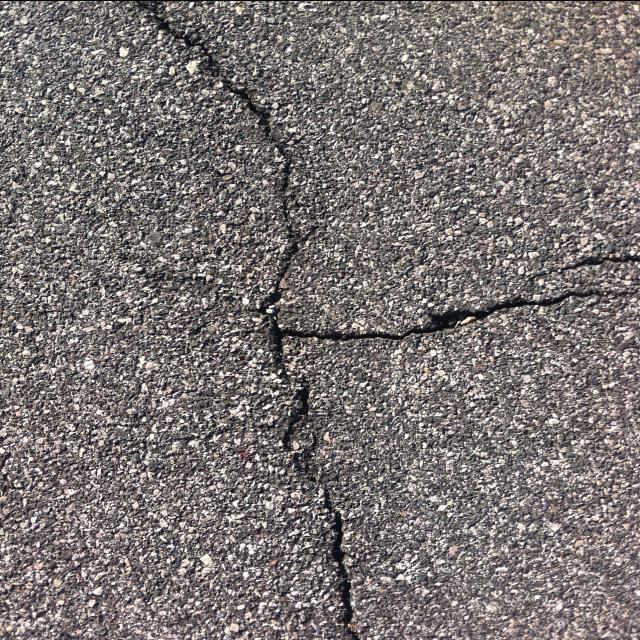Crack: (124, 0, 640, 640), (536, 254, 640, 276)
